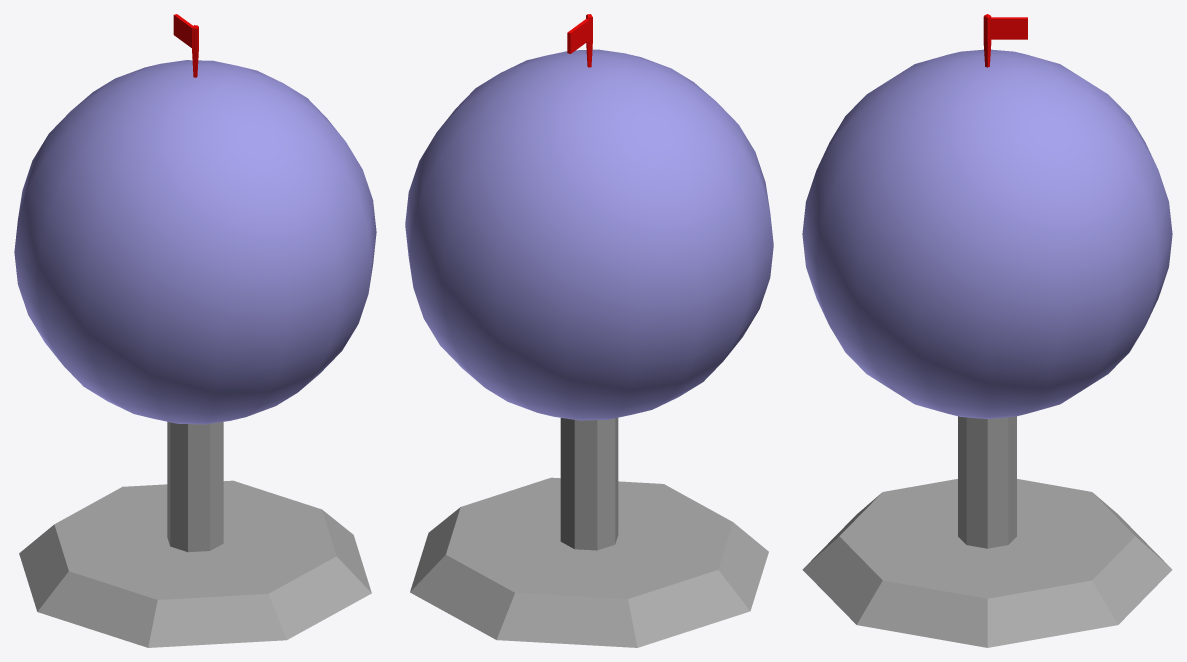
File: globe_01_mockup.fbx
3 views of the same model, side by side, from view 1: azimuth 30°, elevation 25°; view 2: azimuth 150°, elevation 25°; view 3: azimuth 270°, elevation 25° (orthographic).
Parts seen in each view (by area): view 1: globe_01, globe_01_frame, globe_01_flag; view 2: globe_01, globe_01_frame, globe_01_flag; view 3: globe_01, globe_01_frame, globe_01_flag.
Boxes of the visible parts, x1=… form: globe_01: x1=14, y1=60, x2=376, y2=424; globe_01_frame: x1=19, y1=421, x2=371, y2=647; globe_01_flag: x1=173, y1=14, x2=198, y2=77; globe_01: x1=405, y1=49, x2=773, y2=420; globe_01_frame: x1=410, y1=417, x2=768, y2=647; globe_01_flag: x1=567, y1=14, x2=592, y2=67; globe_01: x1=802, y1=49, x2=1172, y2=418; globe_01_frame: x1=802, y1=416, x2=1172, y2=647; globe_01_flag: x1=983, y1=14, x2=1027, y2=67.
Bounding box in the file's own units: 0.4 × 0.4 × 0.6613.
